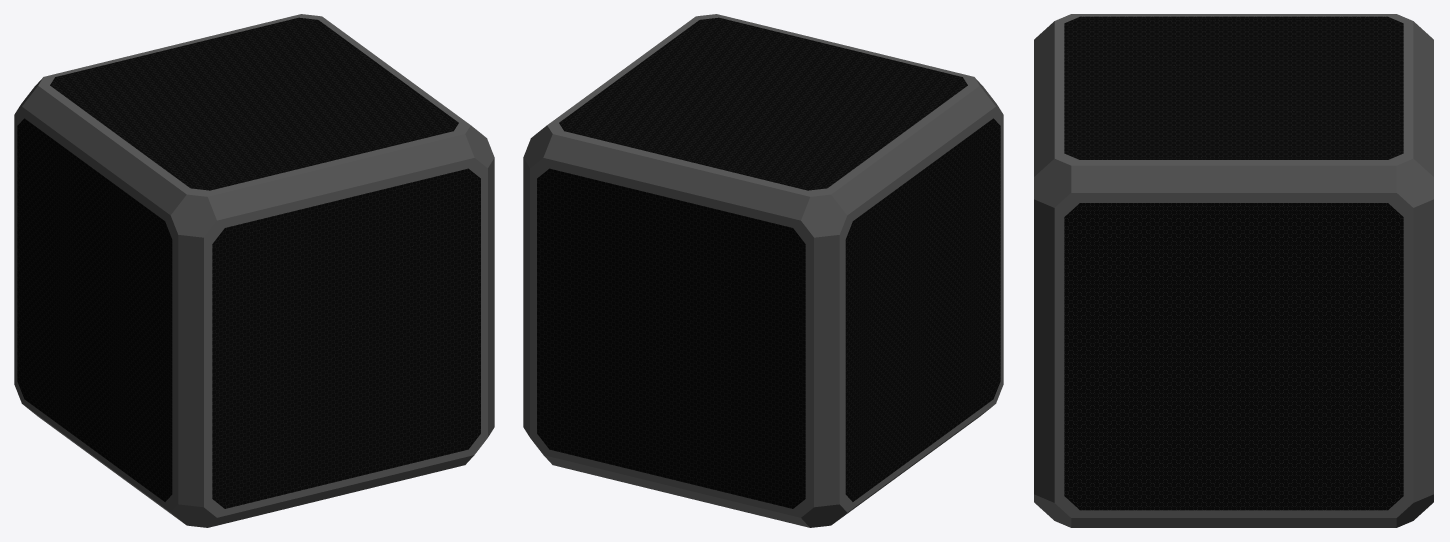
File: Itr_Obj_Speaker4_03.FBX
The picture shows the model from 3 angles, left to right: view 1: azimuth 30°, elevation 25°; view 2: azimuth 150°, elevation 25°; view 3: azimuth 270°, elevation 25°; orthographic projection. The views are drawn at different scales.
Parts seen in each view (by area): view 1: Itr_Obj_Speaker4_03; view 2: Itr_Obj_Speaker4_03; view 3: Itr_Obj_Speaker4_03.
Boxes of the visible parts, x1,y1,x2,y2 form: Itr_Obj_Speaker4_03: [14, 14, 494, 527]; Itr_Obj_Speaker4_03: [523, 14, 1003, 527]; Itr_Obj_Speaker4_03: [1034, 14, 1433, 527].
Bounding box in the file's own units: 10.52 × 10.46 × 10.52.
